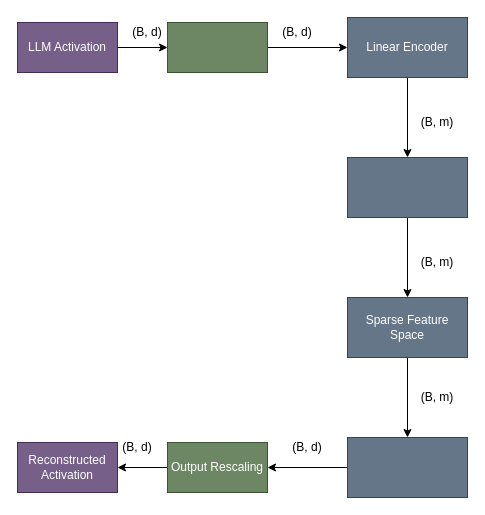
Some shapes in this 485 by 515 pixel diagram are drawn without their labels. Each missing label, with the box of its shape:
Input Scaling: (166, 22, 268, 72)
Linear Decoder: (346, 436, 468, 498)
ReLU: (346, 156, 468, 218)
